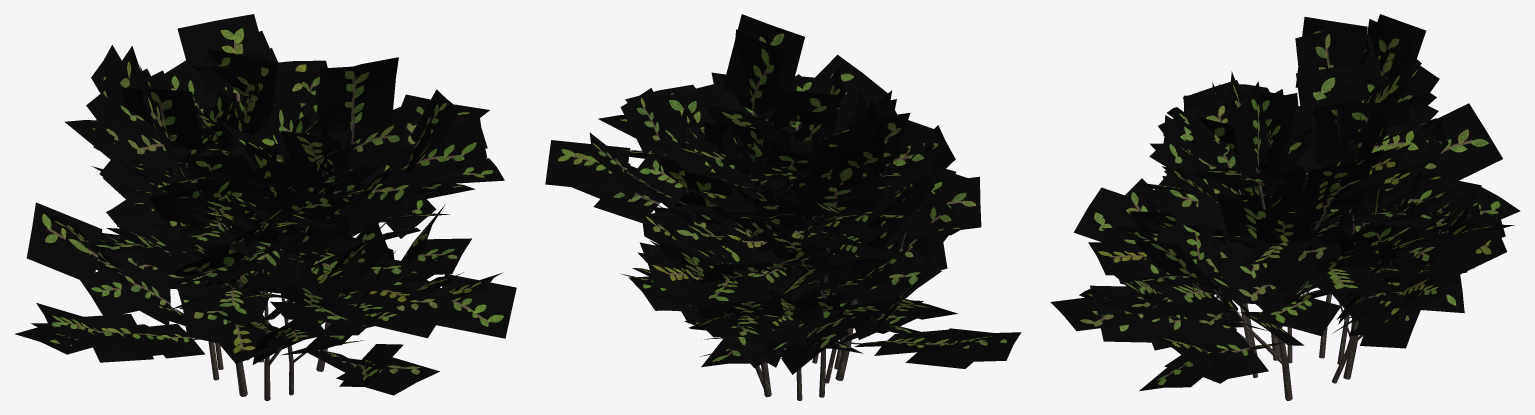
The model's file is trnka_2.glb.
The picture shows the model from 3 angles, left to right: view 1: azimuth 30°, elevation 25°; view 2: azimuth 150°, elevation 25°; view 3: azimuth 270°, elevation 25°; orthographic projection. The views are drawn at different scales.
Visible parts, largest first — view 1: trnka_2; view 2: trnka_2; view 3: trnka_2.
Part boxes in pixels (x1=…): trnka_2: x1=15, y1=14, x2=516, y2=400; trnka_2: x1=545, y1=14, x2=1021, y2=400; trnka_2: x1=1050, y1=14, x2=1520, y2=400.
Bounding box in the file's own units: 3.15 × 2.08 × 2.76.
Materials: 2 (2 with a texture image).
